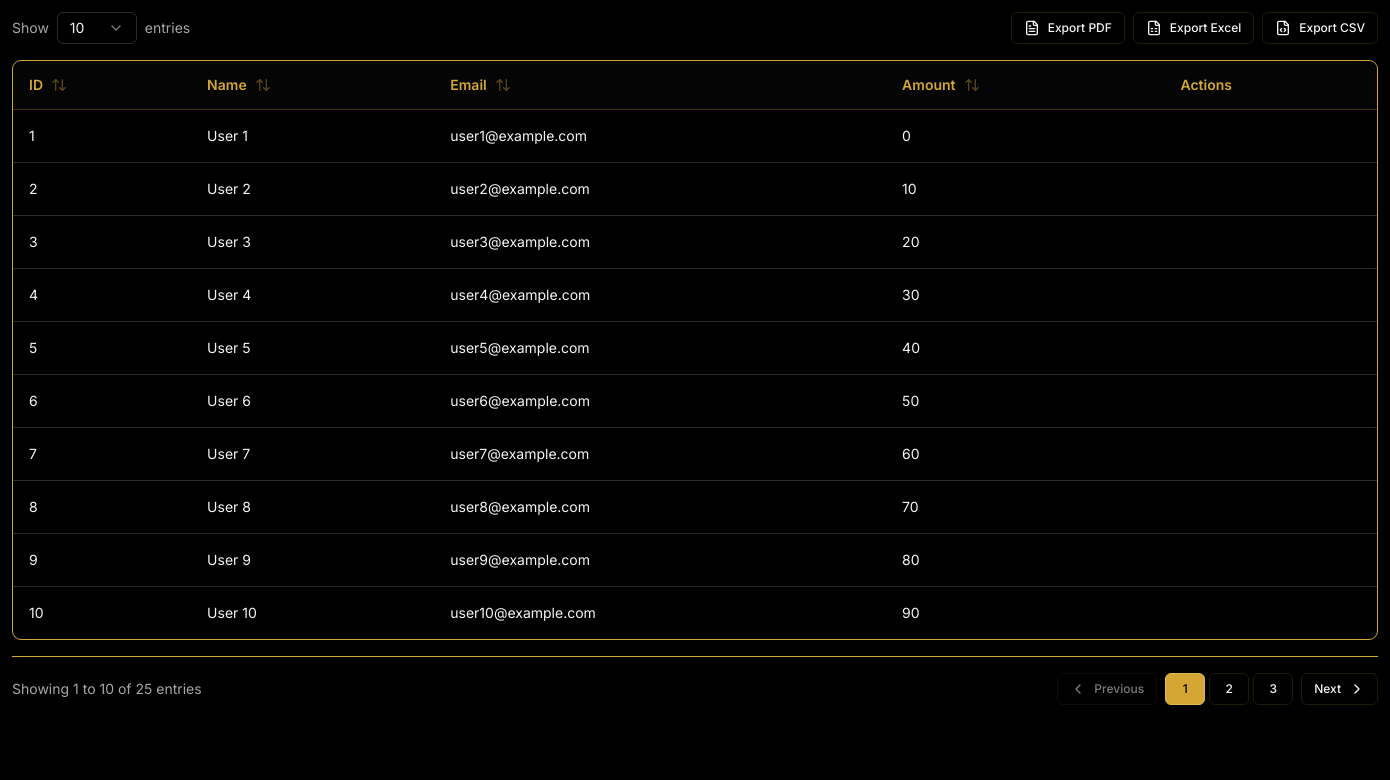
Test: DataTable › navigates to previous page when prev button is clicked
// Go to page 2
Click the button with test id "button-next-page".
click(1340, 688)  # box [1301,672,1378,704]
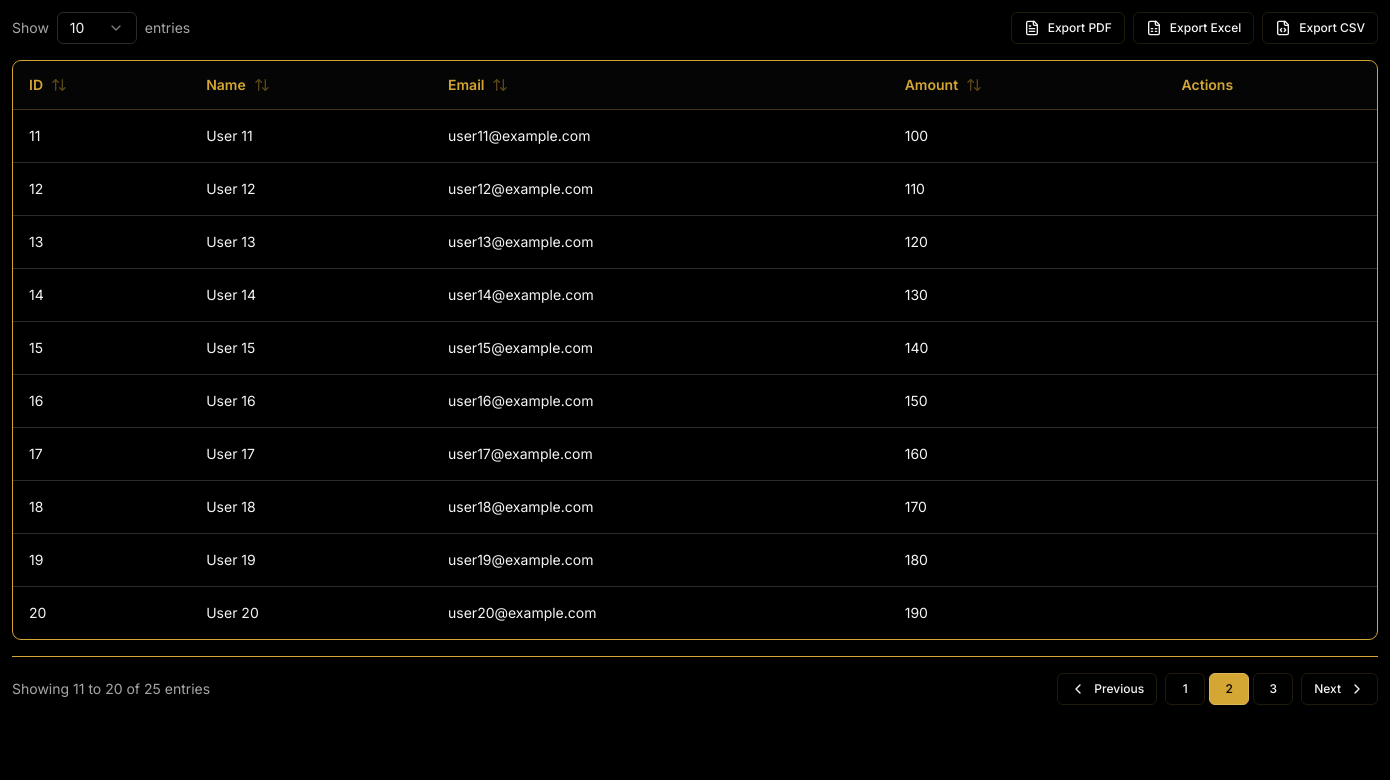
// Go back to page 1
Click the button with test id "button-prev-page".
click(1107, 688)  # box [1057,672,1157,704]
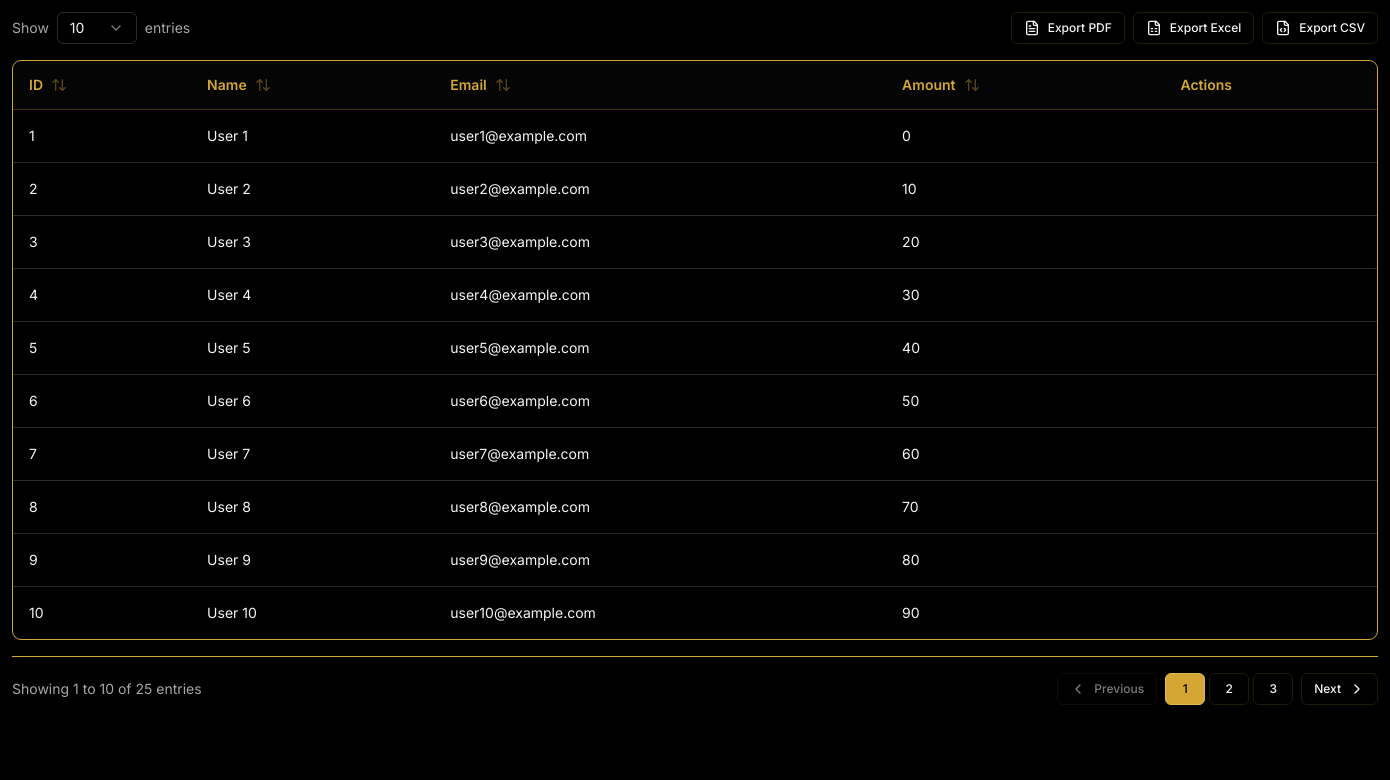
Now the text "Showing 1 to 10 of 25 entries" is shown, box [12,678,202,698]
